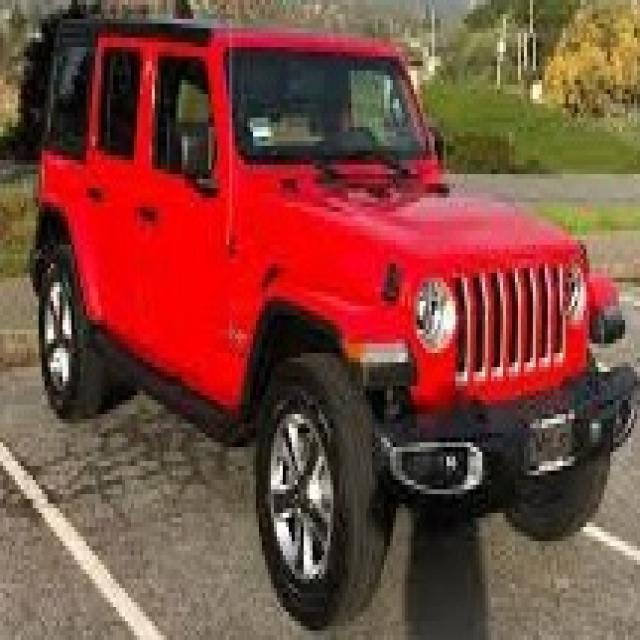red: (49, 14, 636, 506)
